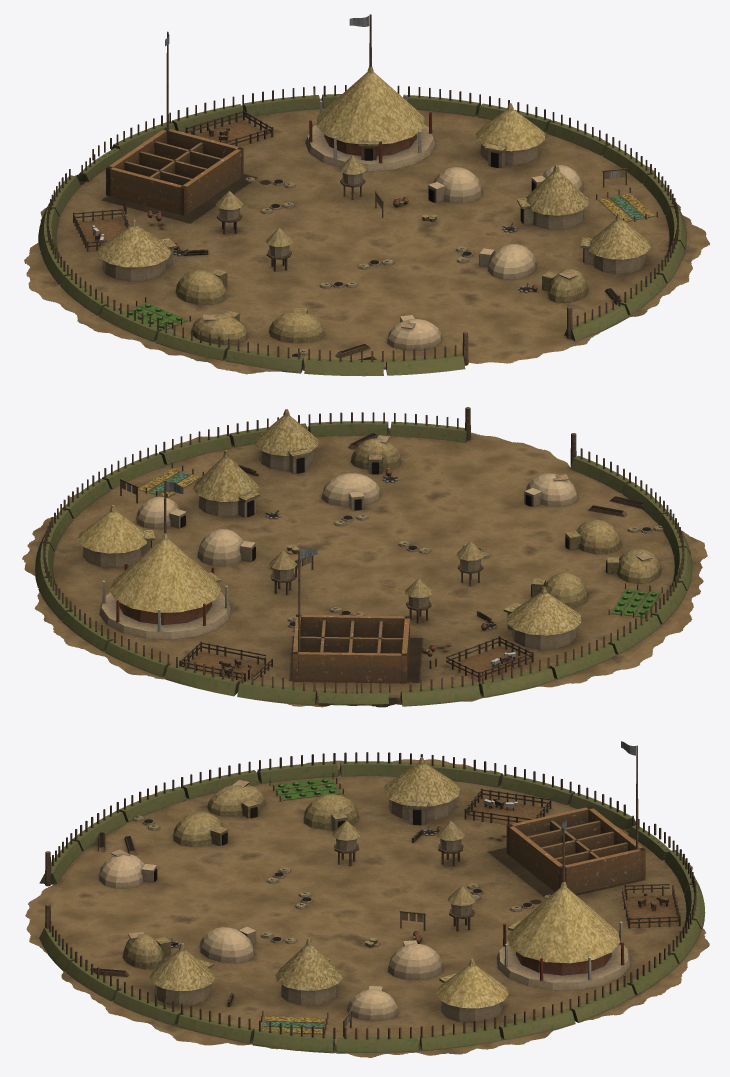
The model's file is stone-town-medium-a-nile.glb.
3 views of the same model, one above another, from view 1: azimuth 30°, elevation 25°; view 2: azimuth 150°, elevation 25°; view 3: azimuth 270°, elevation 25° (orthographic). The views are drawn at different scales.
Parts seen in each view (by area): view 1: LOD0; view 2: LOD0; view 3: LOD0.
Boxes of the visible parts, x1=… form: LOD0: x1=24, y1=14, x2=709, y2=376; LOD0: x1=22, y1=407, x2=707, y2=707; LOD0: x1=25, y1=741, x2=709, y2=1057.
Size of what is drawn, in the model's own units: 5.96 by 1.25 by 5.8.
3 materials, 3 textured.
